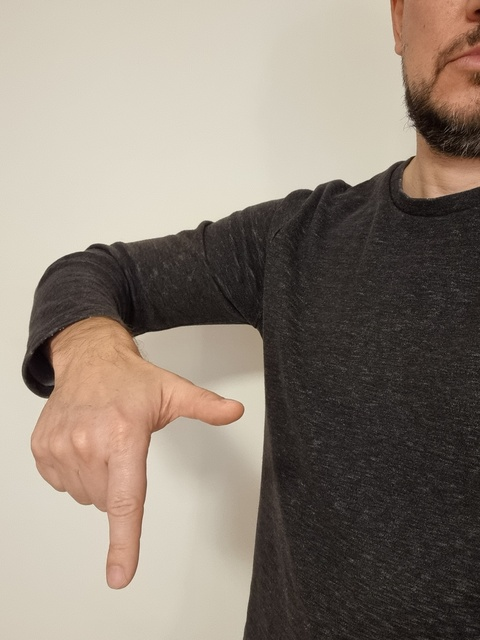GestDown: (28, 374, 243, 588)
